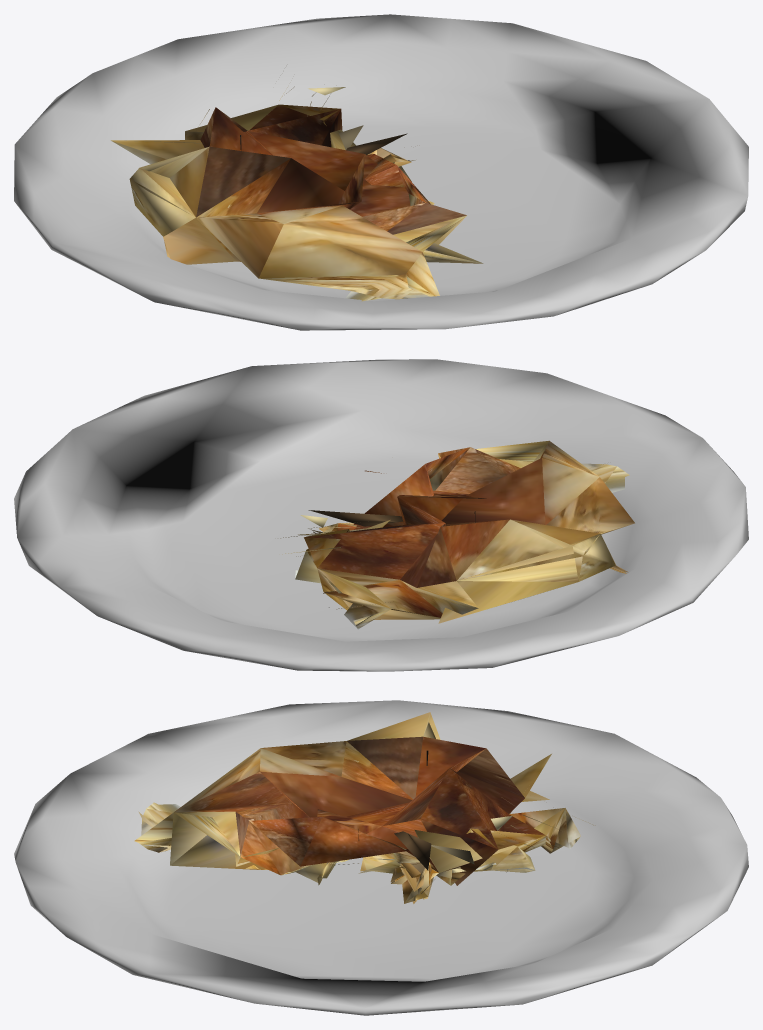
File: plateWithFood2Eaten2.fbx
The picture shows the model from 3 angles, top to bottom: view 1: azimuth 30°, elevation 25°; view 2: azimuth 150°, elevation 25°; view 3: azimuth 270°, elevation 25°; orthographic projection.
Parts seen in each view (by area): view 1: plate, Dish_Circle; view 2: plate, Dish_Circle; view 3: plate, Dish_Circle.
Part boxes in pixels (left/top/right/bottom): plate: left=14, top=14, right=748, bottom=330; Dish_Circle: left=111, top=86, right=483, bottom=301; plate: left=14, top=359, right=748, bottom=671; Dish_Circle: left=280, top=440, right=634, bottom=629; plate: left=14, top=700, right=748, bottom=1015; Dish_Circle: left=134, top=712, right=595, bottom=903.
Bounding box in the file's own units: 116 × 16.79 × 116.
